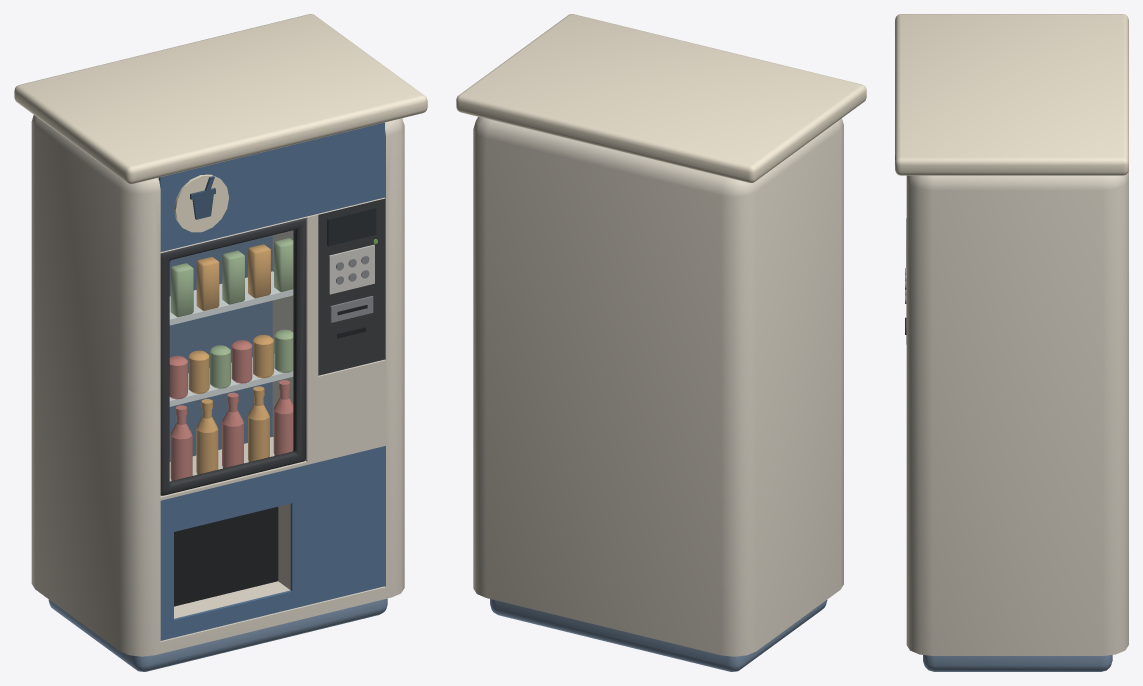
File: distributeur_boissons.glb
3 renders of one model, left to right at view 1: azimuth 30°, elevation 25°; view 2: azimuth 150°, elevation 25°; view 3: azimuth 270°, elevation 25°, orthographic.
Parts seen in each view (by area): view 1: DIS_Distributeur; view 2: DIS_Distributeur; view 3: DIS_Distributeur.
Boxes of the visible parts, box(x1,y1,x2,y2) form: DIS_Distributeur: box(14, 14, 427, 671); DIS_Distributeur: box(456, 14, 866, 671); DIS_Distributeur: box(895, 14, 1128, 671).
Size of the model in its own units: 1.07 by 1.78 by 0.715.
